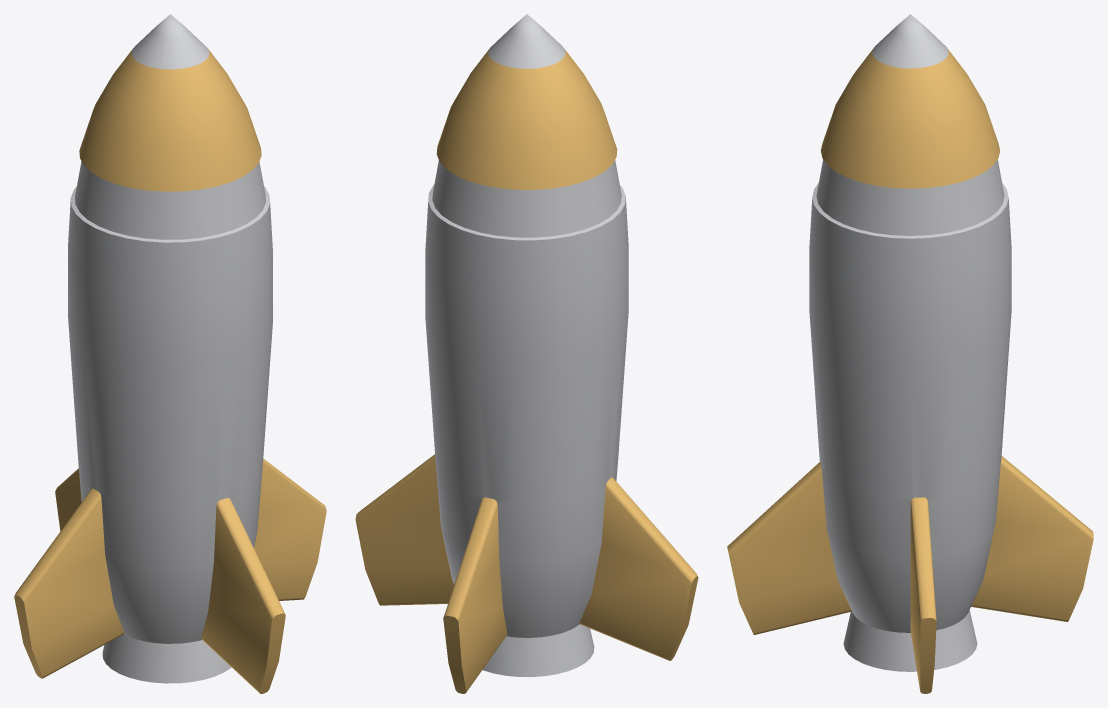
Rendered from BOMB.fbx.
3 renders of one model, left to right at view 1: azimuth 30°, elevation 25°; view 2: azimuth 150°, elevation 25°; view 3: azimuth 270°, elevation 25°, orthographic.
Parts seen in each view (by area): view 1: Cylinder; view 2: Cylinder; view 3: Cylinder.
Part boxes in pixels (left/top/right/bottom): Cylinder: left=14, top=14, right=326, bottom=693; Cylinder: left=355, top=14, right=698, bottom=693; Cylinder: left=727, top=14, right=1093, bottom=693.
Size of the model in its own units: 17.63 by 33.59 by 17.63.
